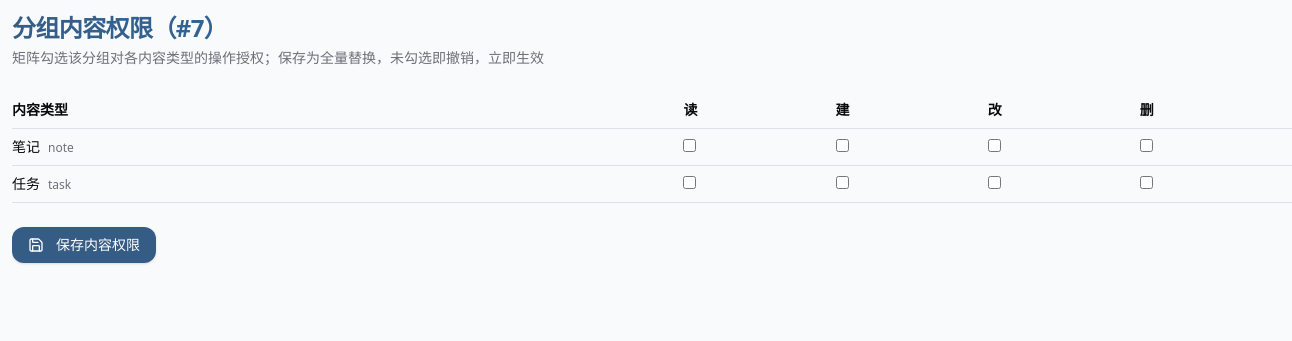
Test: GroupContentPermissionPage › 保存失败展示可读错误
expect the text "笔记" is shown: met, box [12,137,40,156]
Click the checkbox named "笔记-读" at (690, 146), box [683,139,696,152]
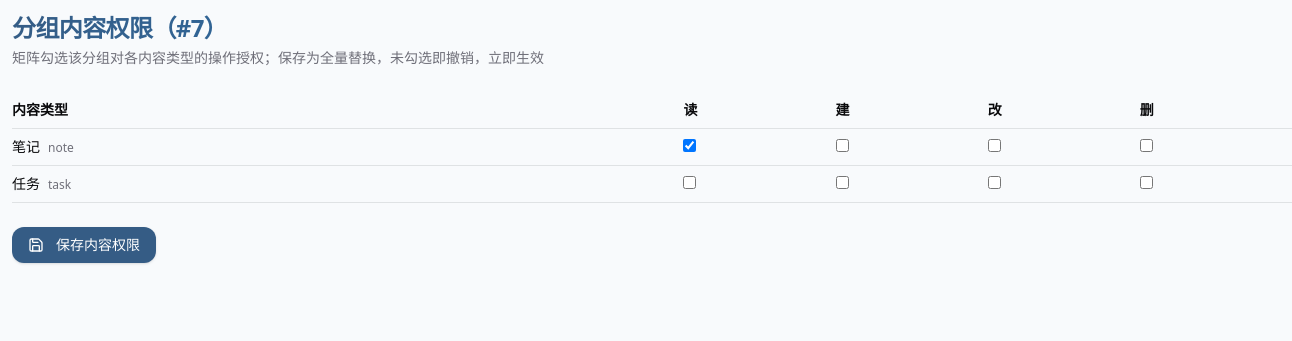
Click the button "保存内容权限" at (84, 245), box [12,227,156,263]
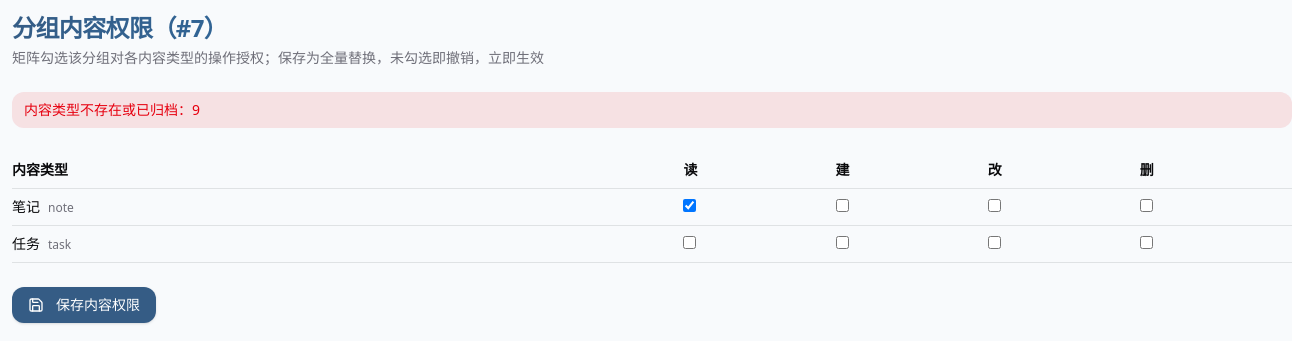
expect the text "内容类型不存在或已归档：9" is shown: met, box [12,92,1291,128]
